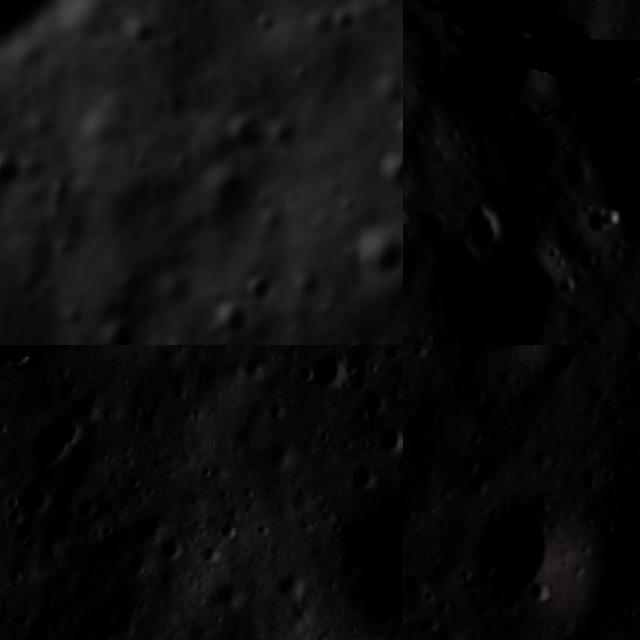crater: (403, 183, 600, 345), (419, 0, 590, 166), (314, 492, 403, 640), (474, 500, 559, 610), (441, 184, 528, 273), (330, 219, 403, 295), (544, 132, 614, 200), (26, 408, 92, 472), (403, 193, 463, 255), (0, 125, 42, 199), (535, 85, 589, 141), (306, 345, 349, 393), (217, 110, 263, 154), (126, 508, 169, 548), (12, 479, 52, 519), (269, 563, 304, 606), (348, 454, 382, 498), (260, 435, 298, 474), (50, 477, 86, 515), (358, 385, 394, 422), (0, 345, 43, 374), (210, 578, 242, 615), (373, 421, 403, 458), (240, 354, 270, 386), (122, 463, 153, 492), (76, 490, 105, 520), (262, 396, 290, 424), (217, 520, 246, 546), (296, 358, 320, 388), (348, 403, 372, 429)
